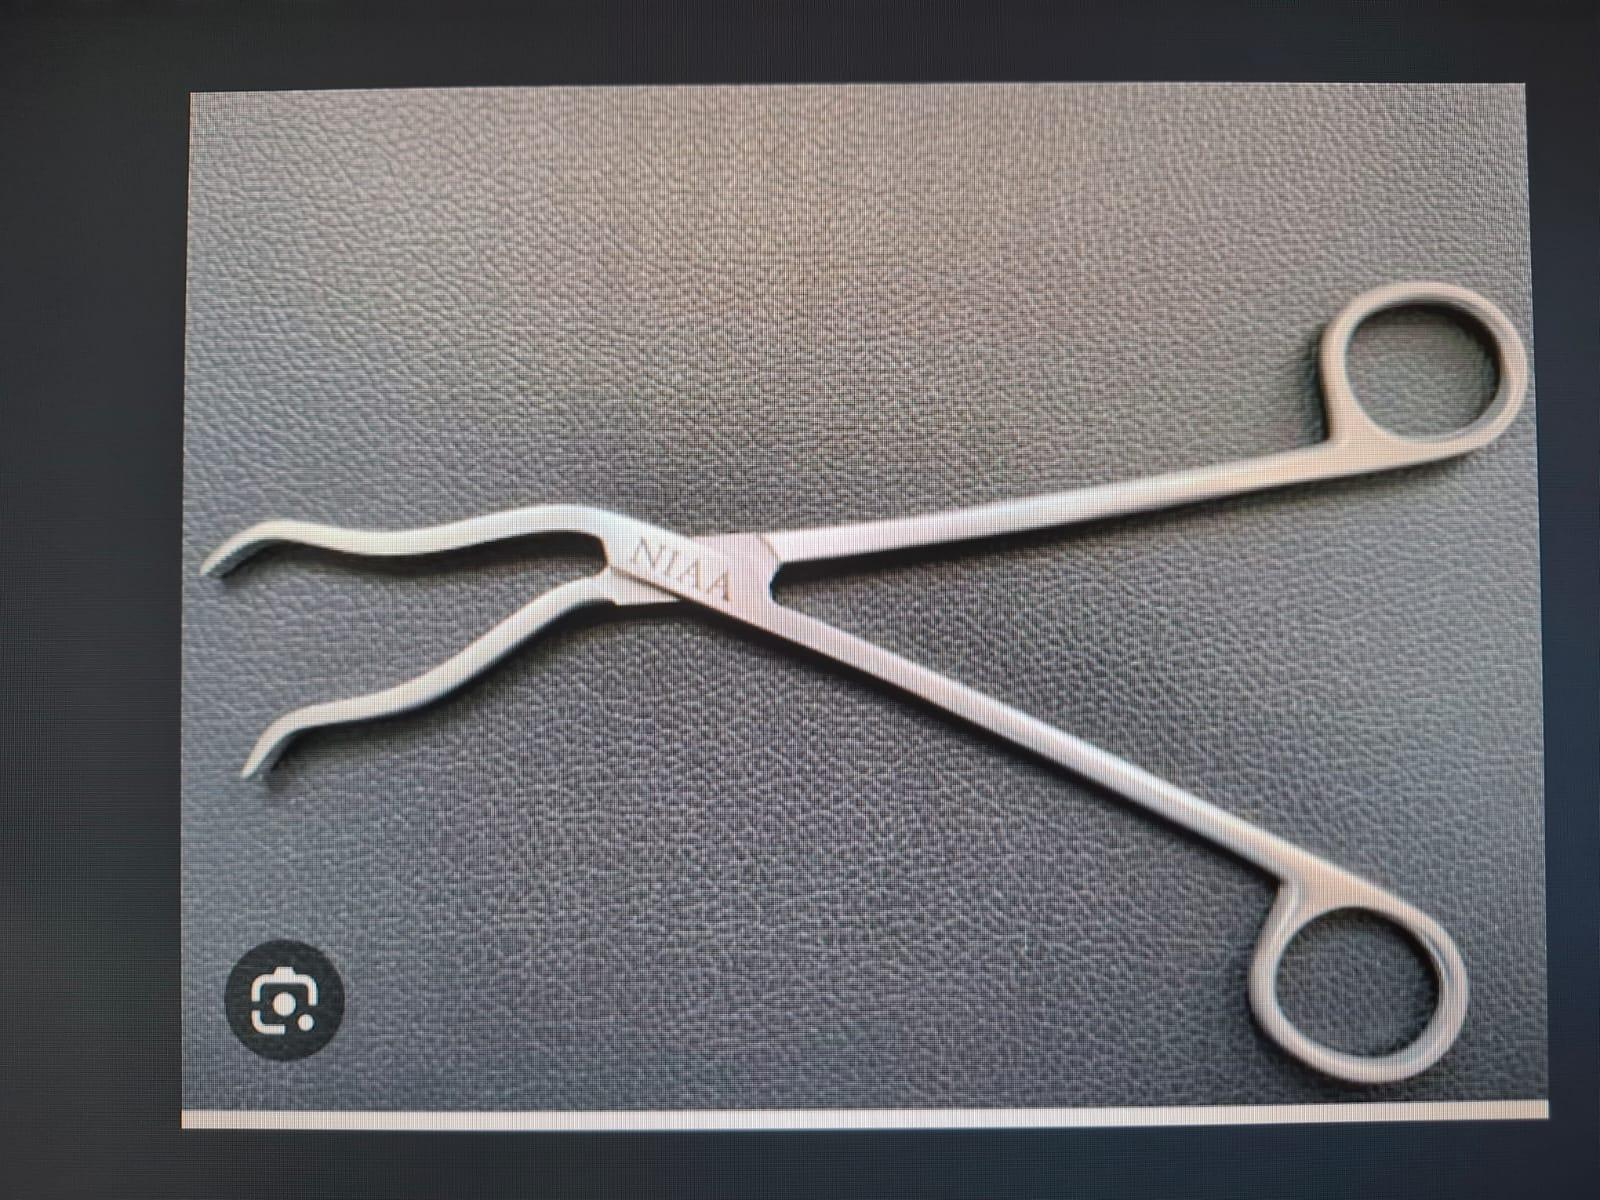Cheatle Forceps: (188, 279, 1536, 1092)
